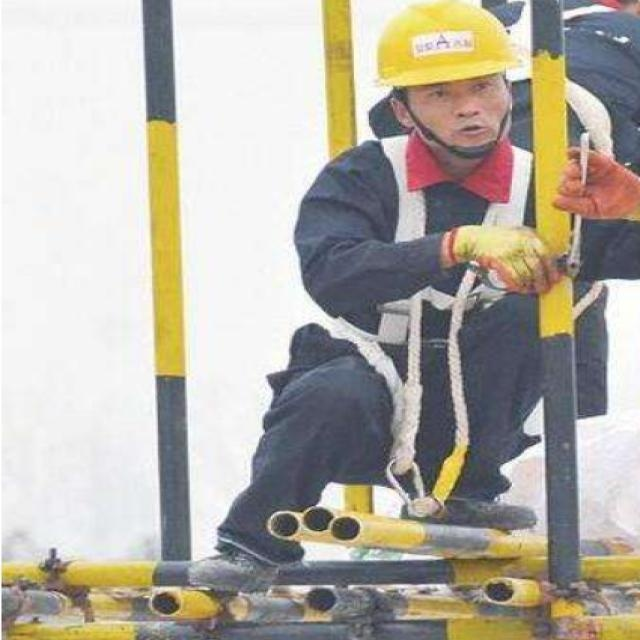Arnes_seguridad: (303, 128, 532, 351)
